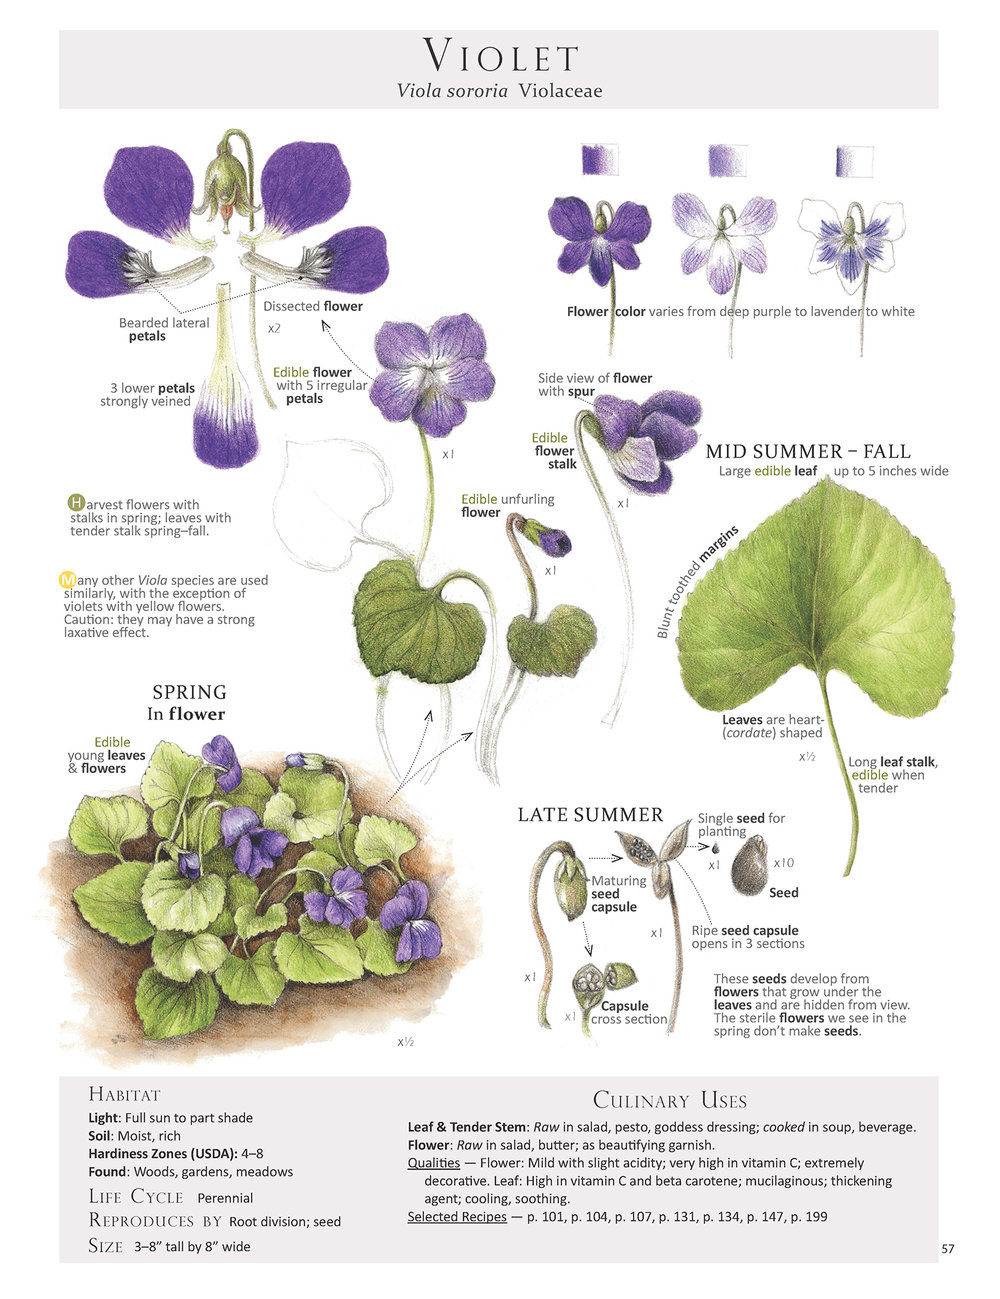violet: (564, 376, 702, 516), (519, 173, 657, 311), (354, 317, 492, 436), (790, 192, 928, 302), (665, 188, 778, 302), (191, 791, 306, 883), (377, 871, 460, 971), (294, 868, 370, 928)
